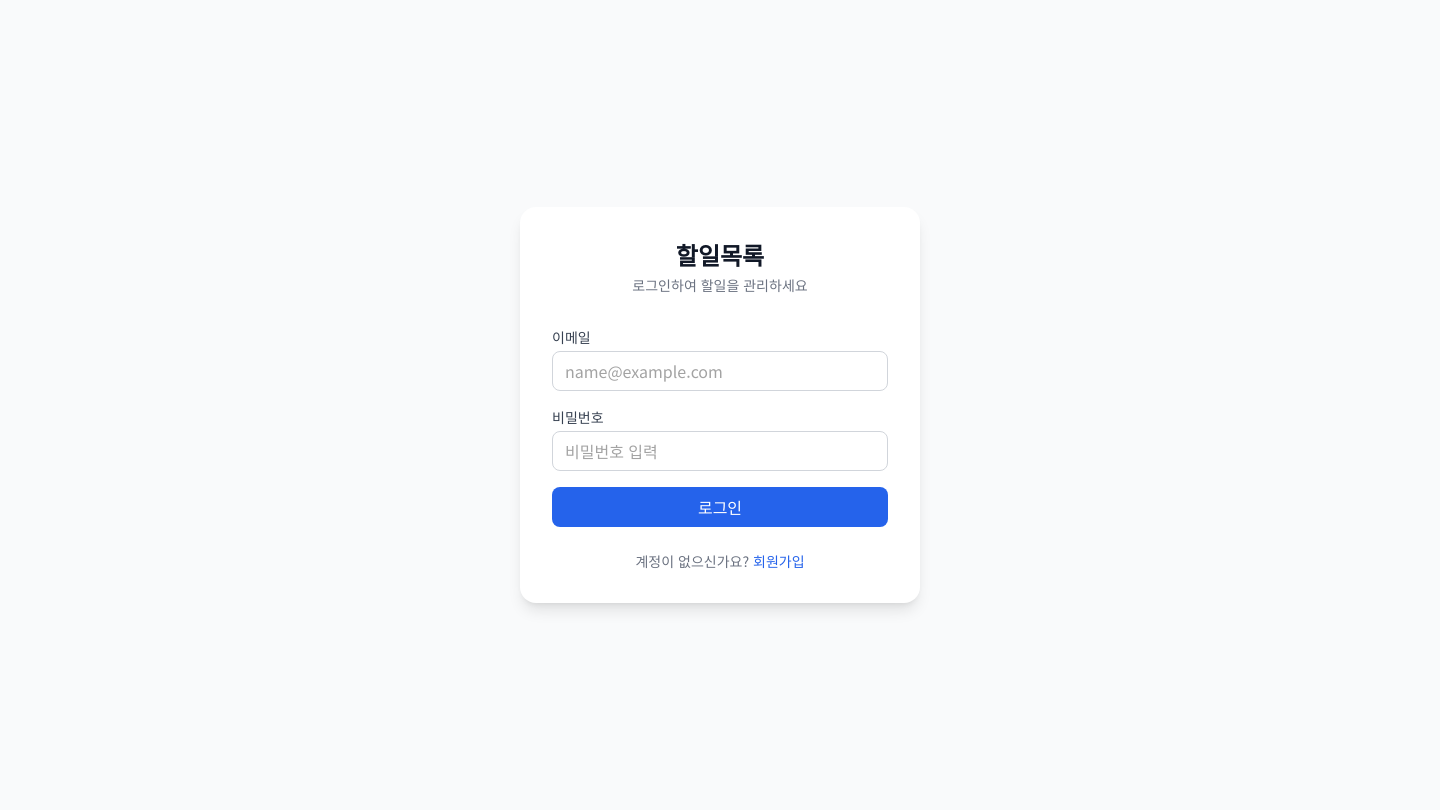
Test: Auth Integration › 로그인 성공 후 /todos로 이동 + token 저장
Type "test@test.com" into the field labelled "이메일" at (720, 371), box [552, 351, 888, 391]
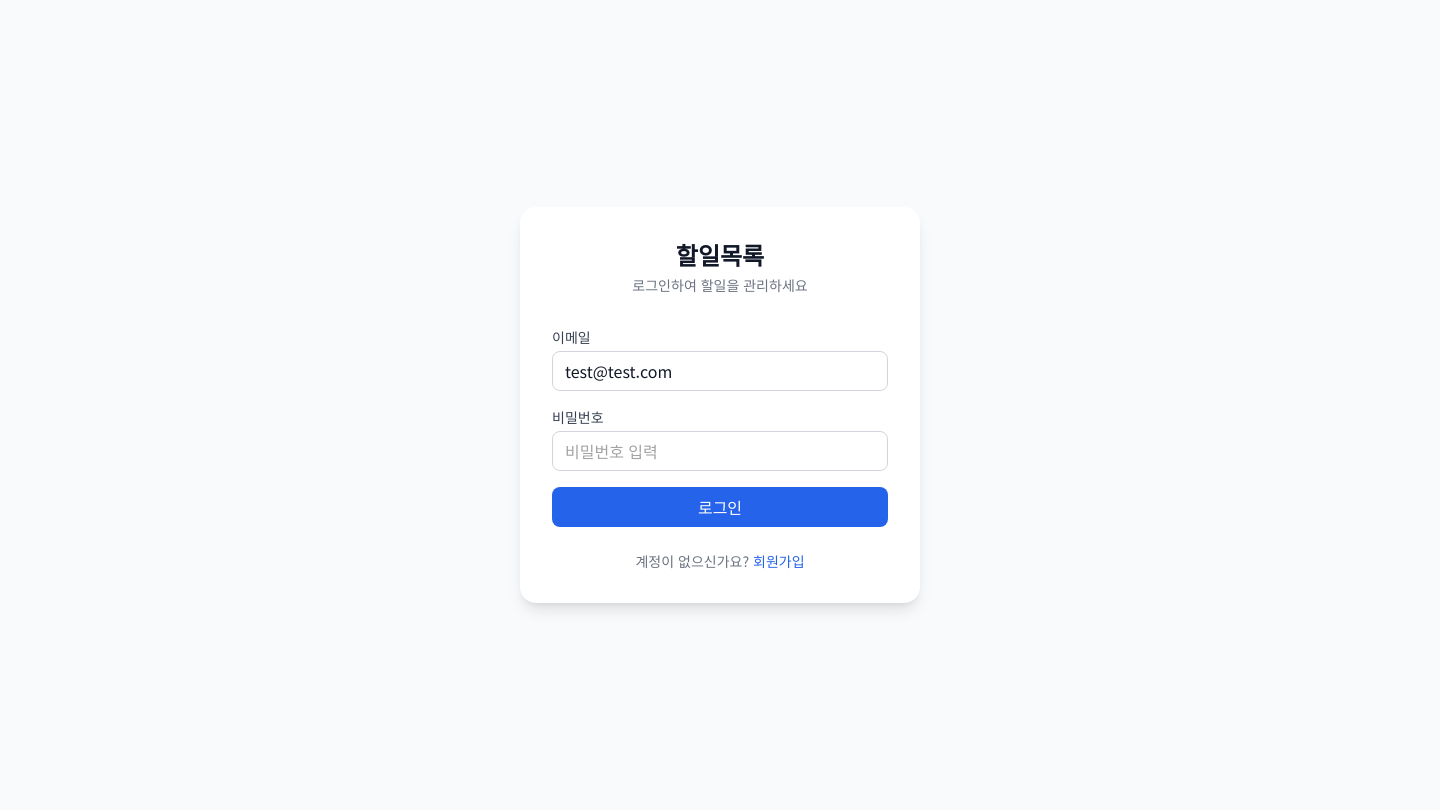
Type "password123" into the password field labelled "비밀번호" at (720, 451), box [552, 431, 888, 471]
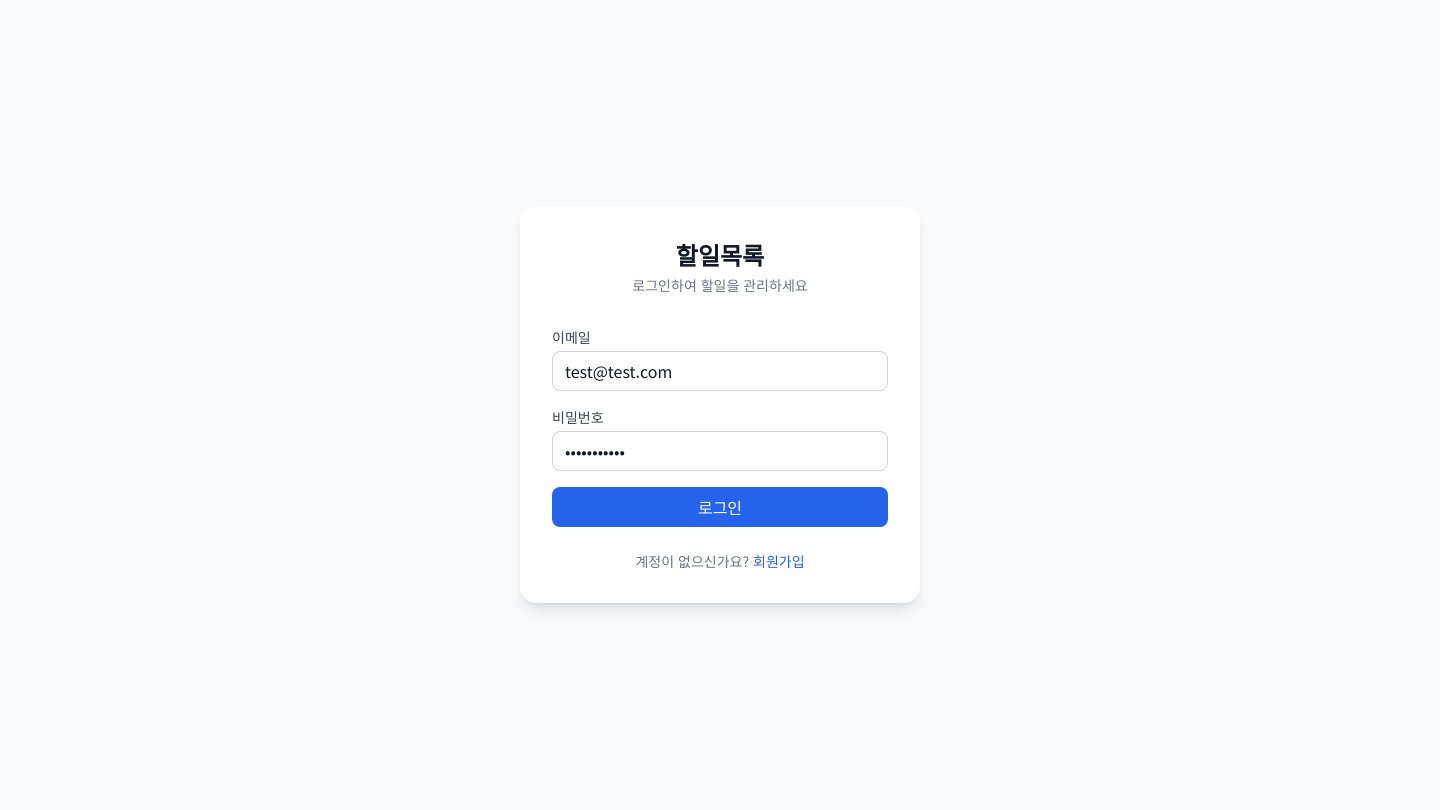
Click the button "로그인" at (720, 507), box [552, 487, 888, 527]
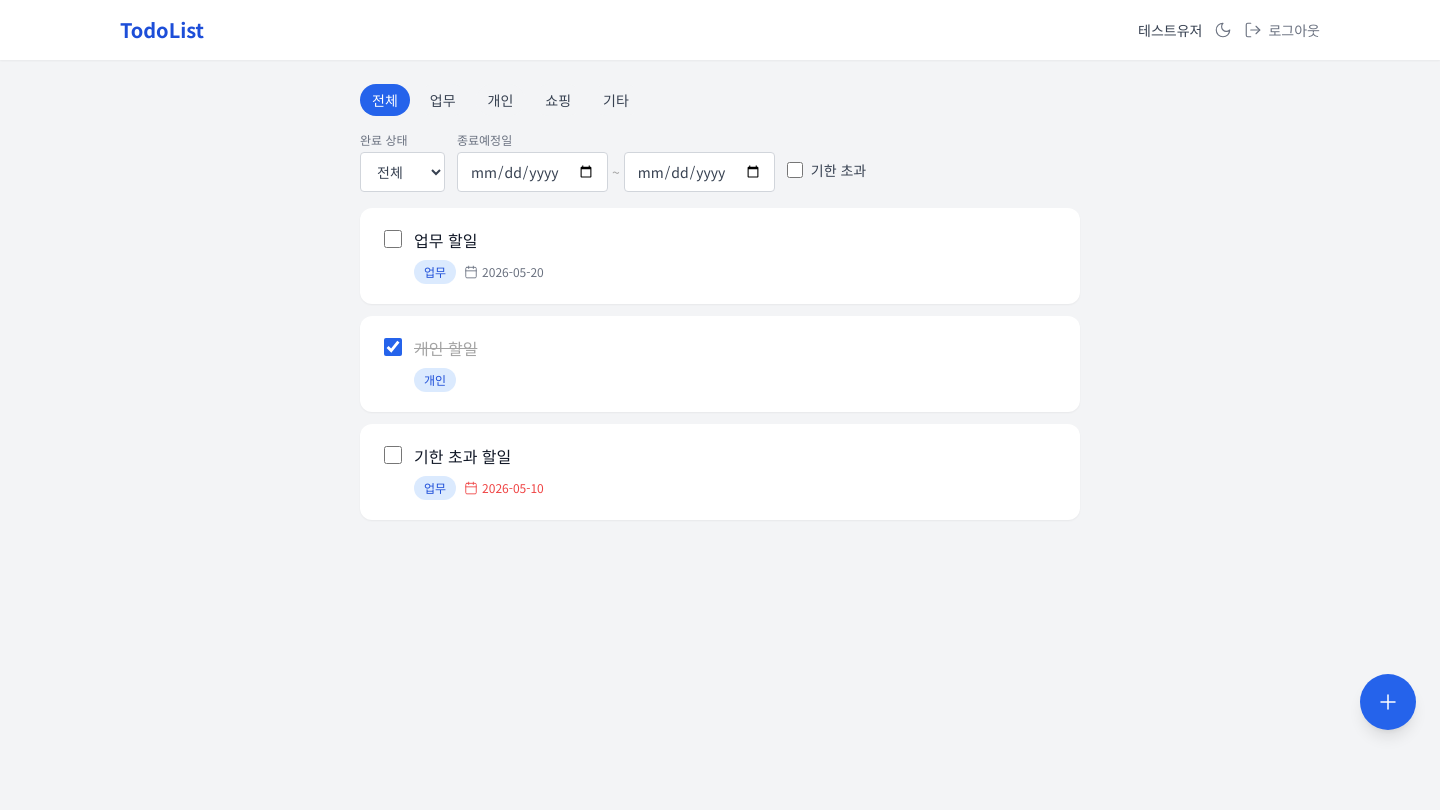
Expected: the element with test id "todo-list-page" is shown
